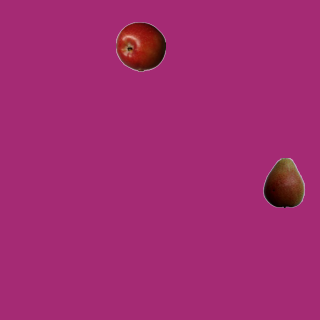Apple Braeburn: (115, 21, 165, 71)
Pear Forelle: (258, 157, 308, 207)
